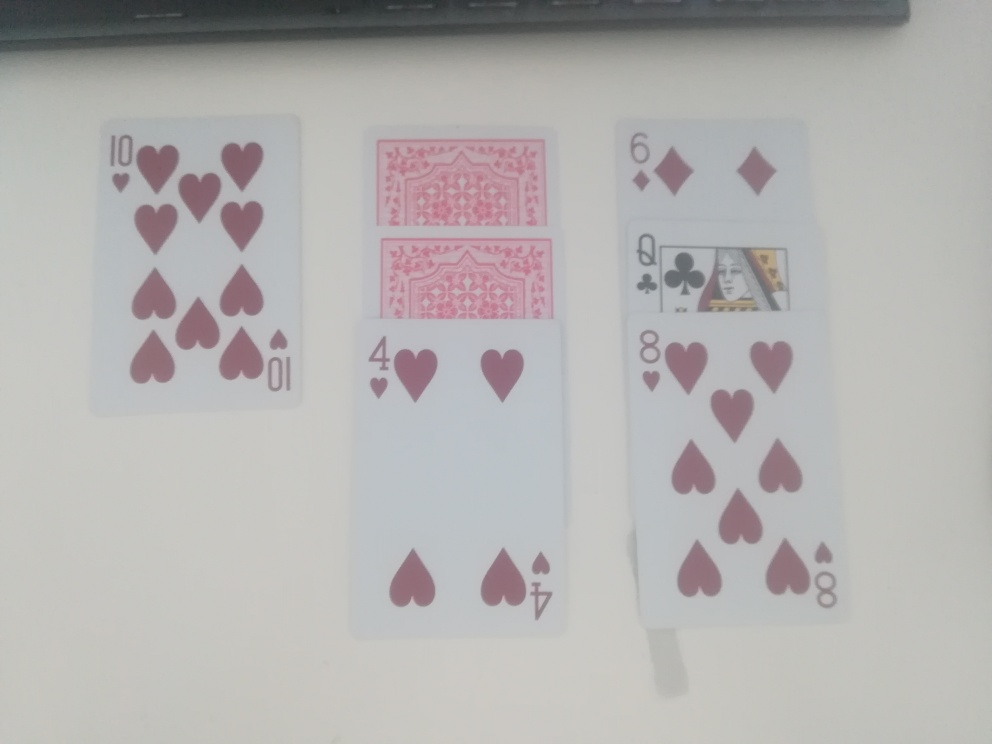10H: (104, 130, 137, 200)
4H: (364, 332, 396, 405)
6D: (624, 129, 659, 198)
8H: (634, 323, 670, 405)
BACK: (373, 135, 551, 230), (376, 235, 561, 324)
QC: (632, 230, 665, 304)
